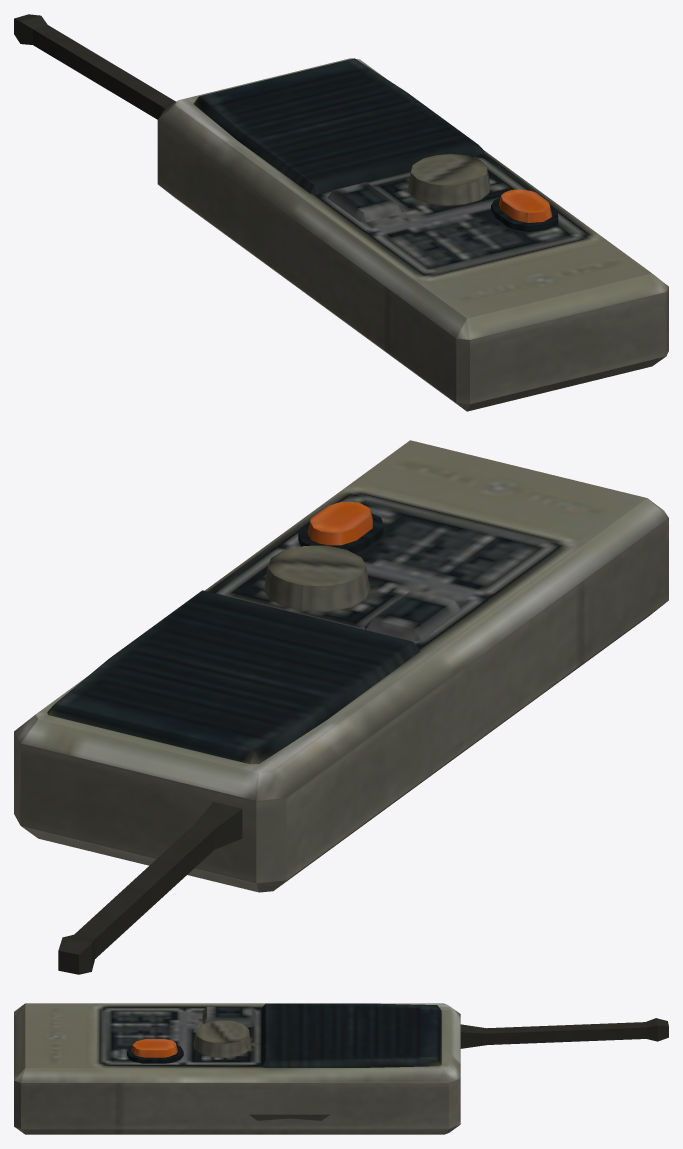
The model's file is walkie_talkie_1.obj.
3 renders of one model, top to bottom at view 1: azimuth 30°, elevation 25°; view 2: azimuth 150°, elevation 25°; view 3: azimuth 270°, elevation 25°, orthographic. The views are drawn at different scales.
Parts seen in each view (by area): view 1: walkie_talkie_1; view 2: walkie_talkie_1; view 3: walkie_talkie_1.
Boxes of the visible parts, left/top/right/bottom form: walkie_talkie_1: left=14, top=14, right=668, bottom=411; walkie_talkie_1: left=14, top=440, right=668, bottom=974; walkie_talkie_1: left=14, top=1003, right=668, bottom=1134.
Size of the model in its own units: 0.1039 by 0.048 by 0.3561.
